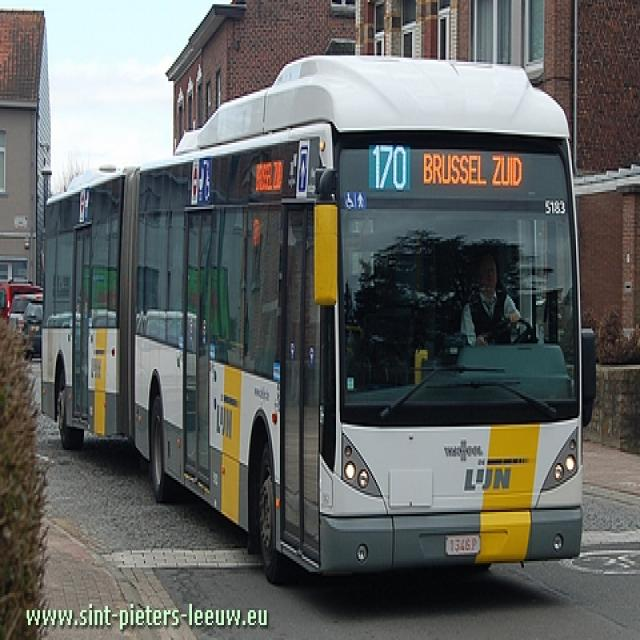bus-number: (371, 141, 409, 192)
